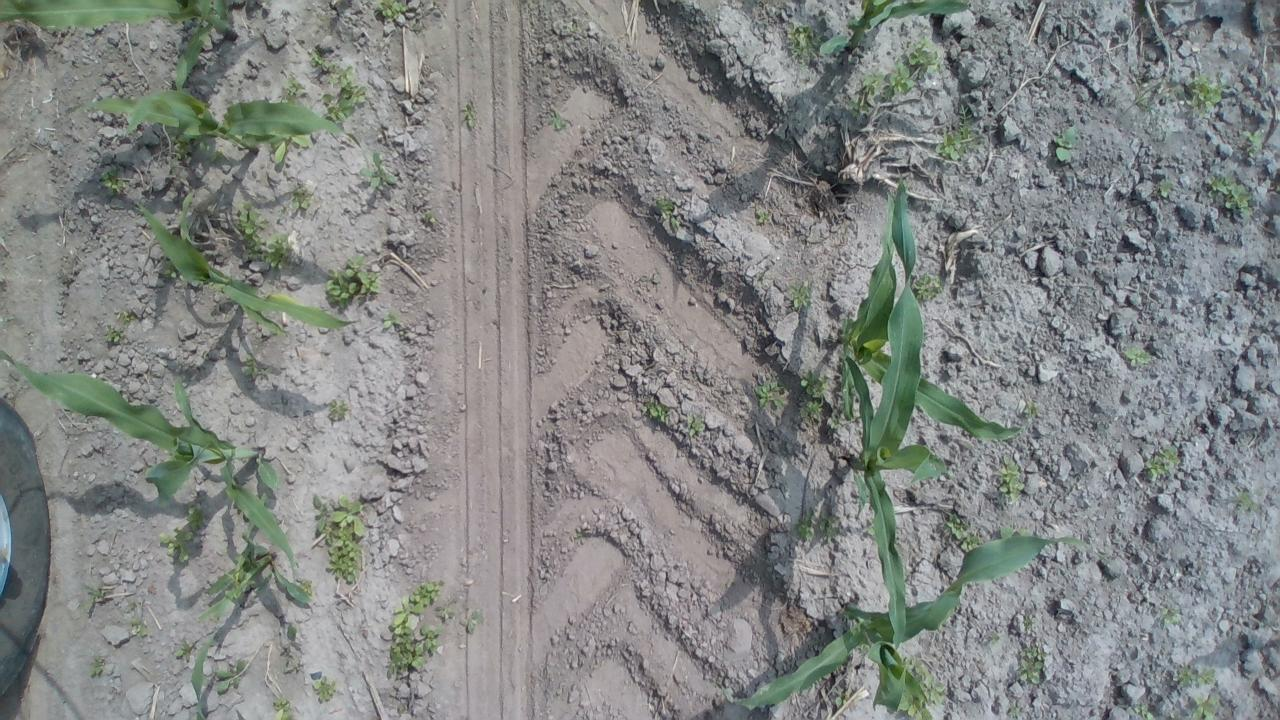Maize: (0, 341, 305, 578), (724, 536, 1090, 712), (816, 180, 1021, 444), (840, 180, 944, 655), (121, 187, 362, 336), (190, 491, 315, 720), (84, 88, 370, 168), (0, 0, 239, 90), (817, 0, 973, 60)
Weeds: (848, 38, 944, 114), (388, 579, 443, 673), (311, 492, 366, 586), (311, 50, 368, 125), (232, 198, 290, 270), (324, 255, 382, 308), (1175, 67, 1229, 122), (934, 103, 978, 160), (902, 654, 946, 706), (945, 512, 986, 554), (158, 520, 195, 566), (1208, 175, 1250, 215), (784, 19, 822, 61), (794, 509, 840, 543), (800, 368, 830, 420), (358, 151, 398, 189), (1140, 446, 1180, 482), (998, 456, 1026, 503), (752, 374, 788, 410), (214, 658, 248, 696), (1134, 77, 1174, 108), (1018, 646, 1048, 686), (274, 134, 312, 165), (102, 310, 135, 344), (910, 272, 946, 300), (1054, 125, 1080, 162), (272, 77, 307, 104), (240, 351, 272, 380), (1178, 666, 1216, 688), (311, 674, 339, 703), (658, 197, 681, 232), (100, 166, 130, 192), (1240, 128, 1266, 158), (1190, 694, 1220, 720), (373, 0, 408, 22), (78, 583, 105, 611), (289, 182, 316, 210), (641, 398, 670, 424), (1124, 344, 1154, 368), (788, 282, 814, 308), (900, 692, 924, 720), (198, 139, 224, 162), (186, 503, 208, 530), (171, 134, 192, 160), (272, 696, 294, 720), (464, 607, 482, 634), (163, 260, 185, 282), (1234, 490, 1256, 512), (544, 111, 569, 129), (327, 398, 348, 419), (686, 415, 706, 436), (462, 102, 478, 127), (830, 687, 850, 707), (88, 655, 106, 677), (382, 312, 404, 330), (997, 526, 1030, 538), (1160, 607, 1182, 625), (1134, 702, 1154, 720), (1022, 399, 1040, 418), (940, 464, 960, 481), (174, 638, 192, 656), (296, 576, 314, 594), (1158, 178, 1172, 200), (132, 617, 146, 638), (754, 207, 770, 224), (1008, 702, 1022, 720), (438, 606, 456, 619), (421, 209, 436, 224), (0, 314, 17, 327), (133, 197, 146, 214), (862, 518, 875, 535), (826, 414, 840, 429), (1023, 615, 1034, 632), (195, 14, 209, 26), (566, 20, 578, 33), (991, 632, 1002, 646), (0, 270, 5, 280)
